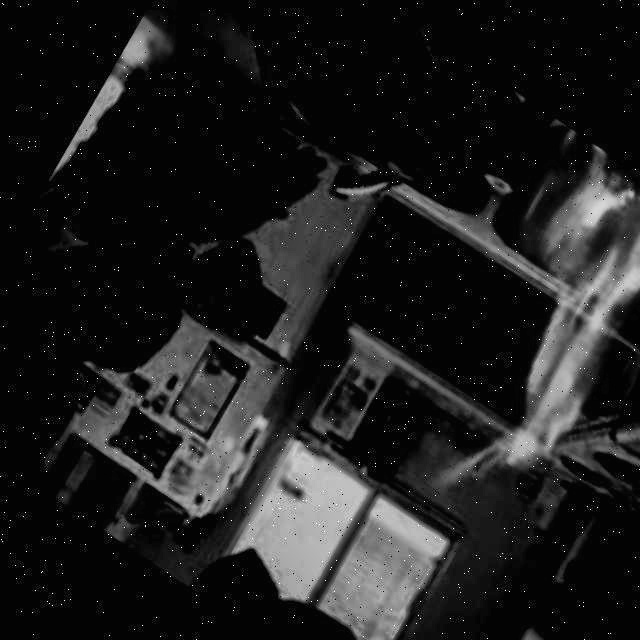Fire: (434, 145, 640, 486), (481, 114, 640, 333)
